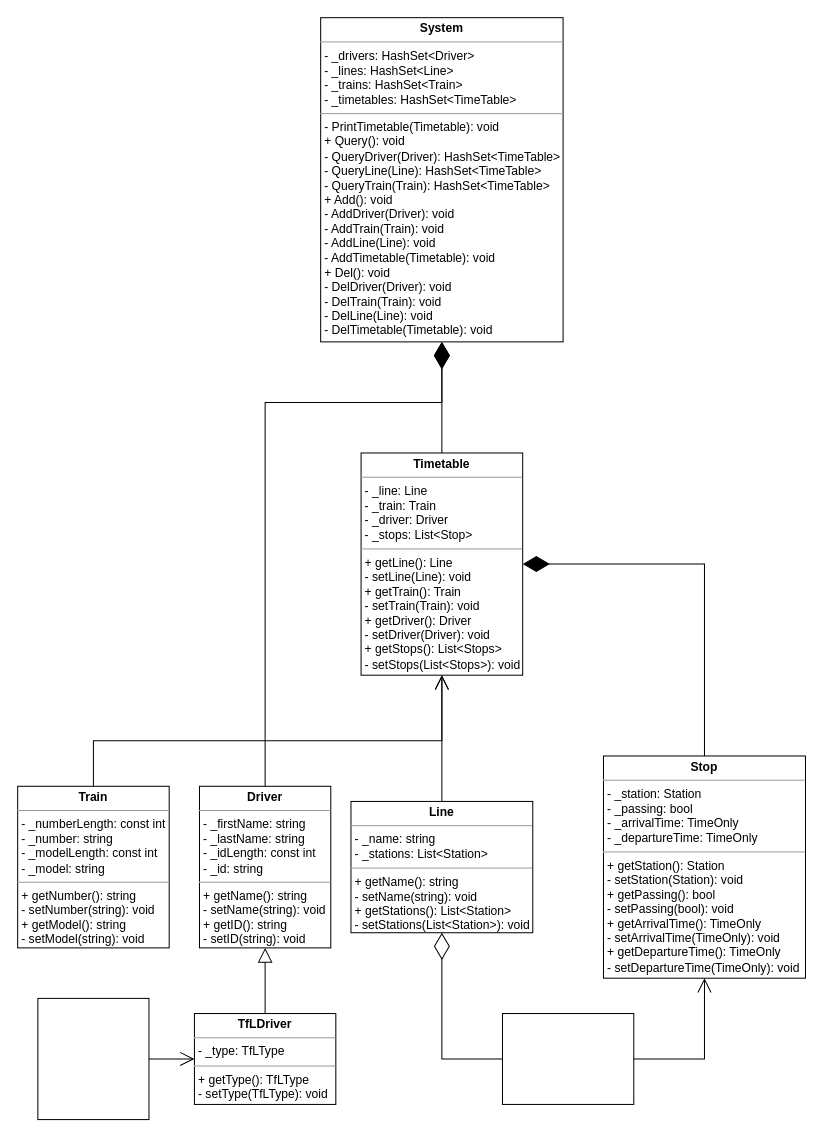
Some shapes in this 823 by 1137 pixel diagram are drawn without their labels. The box of each missing label's shape, as (x1, y1, x2, y2) in pixels:
<<Enumeration>> TfLTypes Overground Underground Tram DLR ElizabethLine: (37, 997, 149, 1120)
Station - _name: string + getName(): string - setName(string): void: (501, 1013, 634, 1104)
